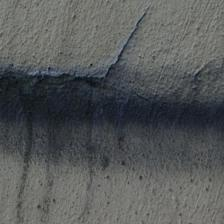Crack: (15, 4, 138, 83)
